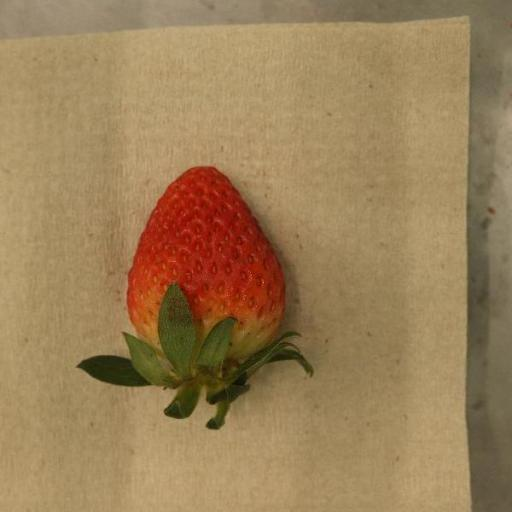Strawberry: (78, 167, 315, 431)
